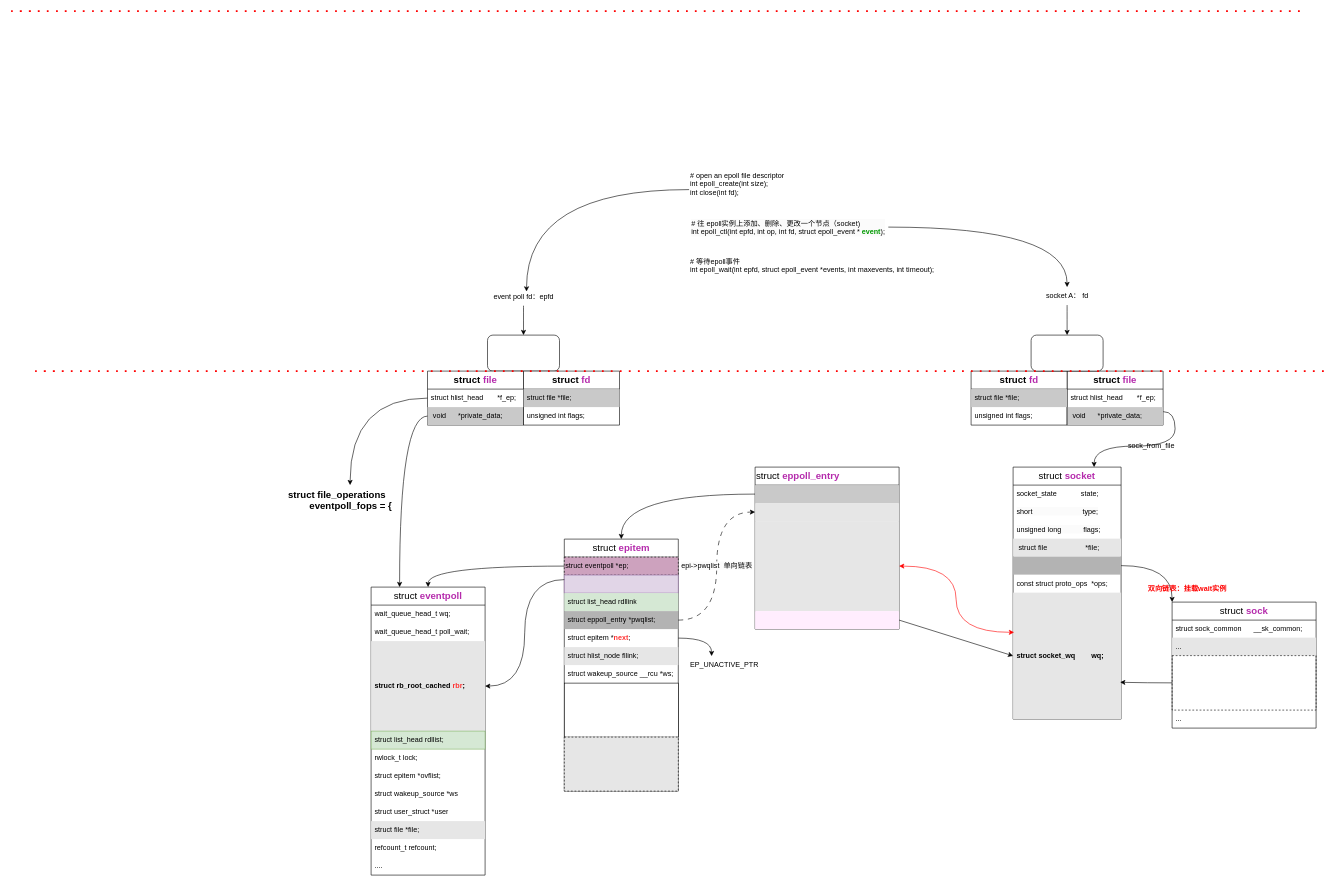
Image size: 1343x886. Some labels were removed from this diagram. Here are the shapes that lost their labels. From the top down, the box of each, then its label:
(487, 334, 560, 371): epfd
(1030, 334, 1103, 371): fd
(755, 485, 899, 503): struct epitem *base;
(755, 503, 899, 521): struct eppoll_entry *next;
(564, 574, 678, 593): union /* rb_node*/
(755, 521, 899, 611): wait_queue_entry_t wait;
(1013, 556, 1121, 574): struct sock *sk;
(755, 611, 899, 629): wait_queue_head_t *whead;
(1172, 655, 1316, 710): union { struct socket_wq __rcu *sk_wq; struct socket_wq *sk_wq_raw; };
(564, 682, 678, 737): struct epoll_filefd ffd;
(564, 736, 678, 791): struct epoll_event event ;
